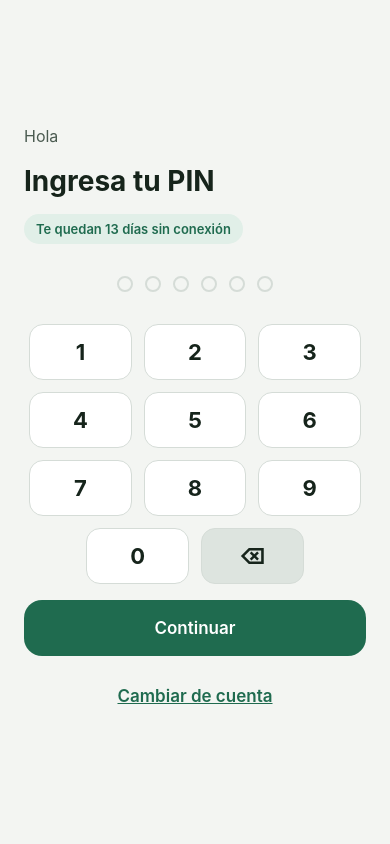
Test: RF-111: un PIN incorrecto avisa los intentos que quedan
Expected: the text "Ingresa tu PIN" is shown, [24,164,215,198]
Click the button labelled "1" at (80, 352), box [29,324,132,380]
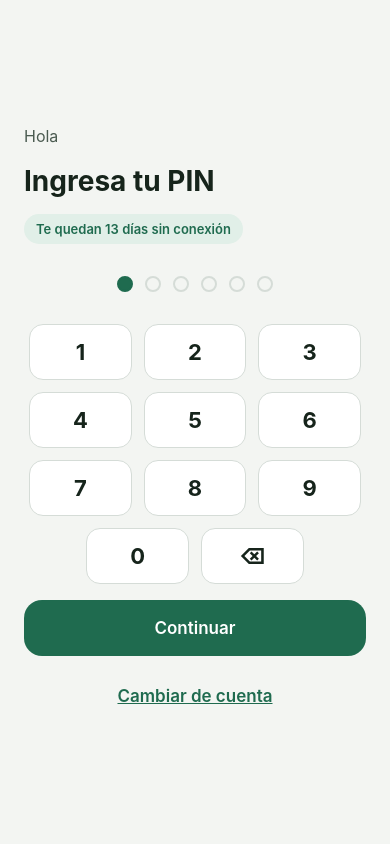
Click the button labelled "2" at (195, 352), box [144,324,246,380]
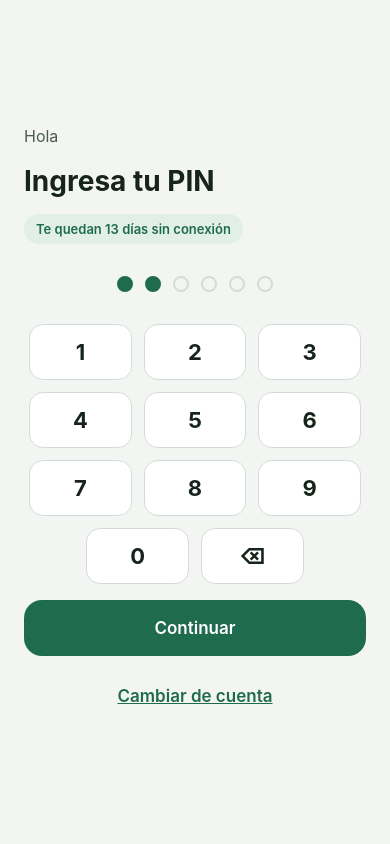
Click the button labelled "3" at (310, 352), box [258,324,361,380]
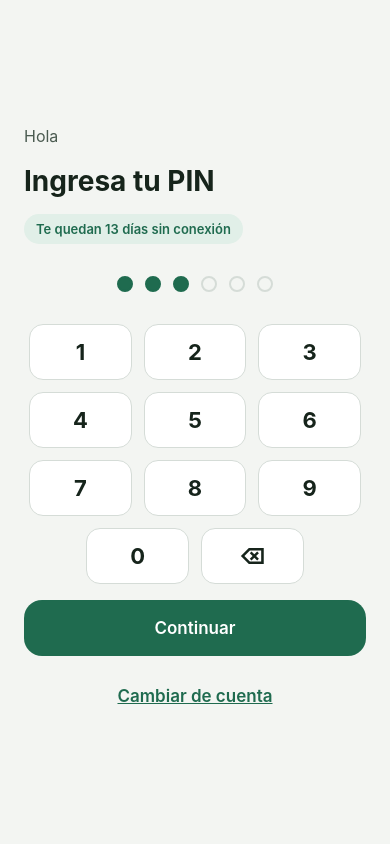
Click the button "Continuar" at (195, 628), box [24,600,366,656]
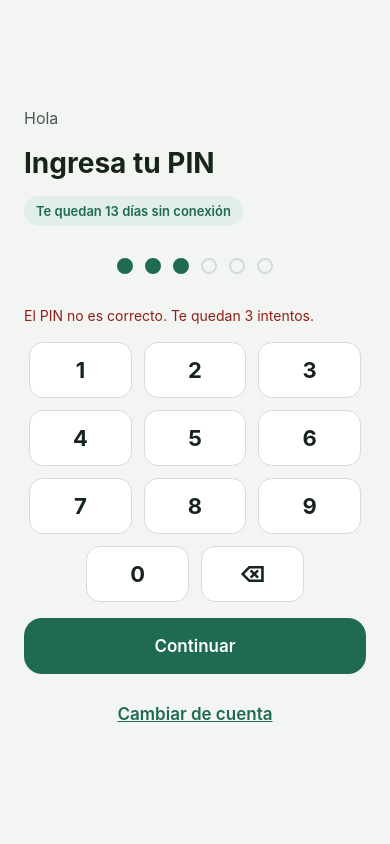
Expected: the text "El PIN no es correcto. Te quedan 3 intentos." is shown, [24,307,314,324]
